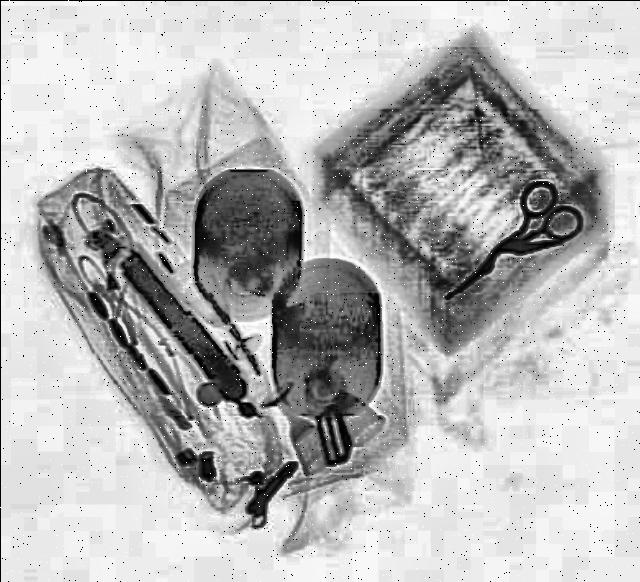Scissors: (420, 177, 594, 320)
